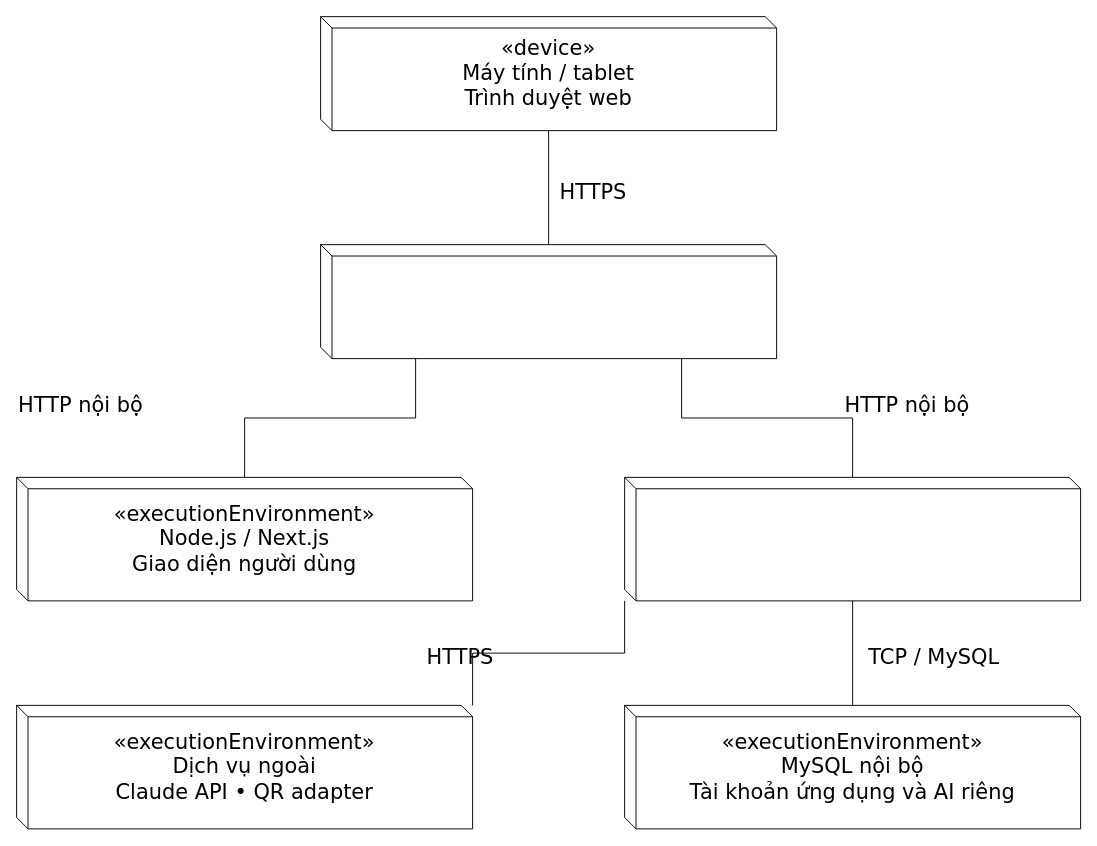
This 1097x846 diagram has some shape labels left out. The shapes that lost their labels are listed below. From the top down, each one's box as (x1, y1, x2, y2) in pixels, then its label:
(320, 244, 777, 359): «executionEnvironment» Điểm vào HTTPS Chuyển tiếp web và API
(624, 476, 1081, 601): «executionEnvironment» Python / FastAPI Nghiệp vụ và AI
